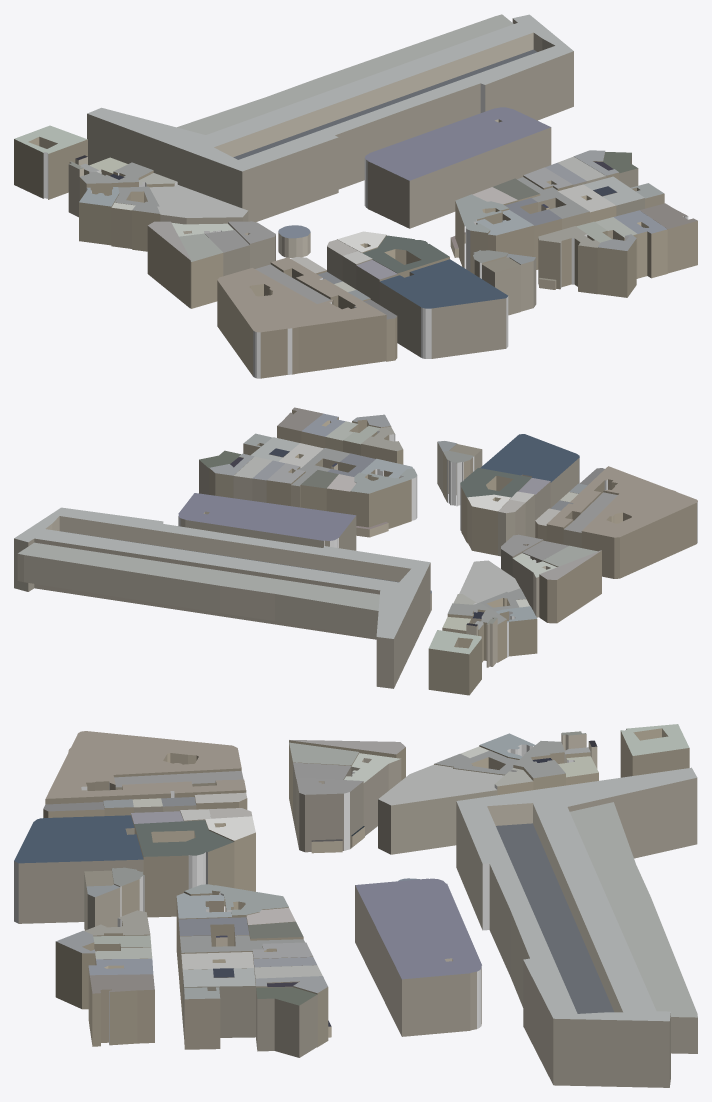
The picture shows the model from 3 angles, top to bottom: view 1: azimuth 30°, elevation 25°; view 2: azimuth 150°, elevation 25°; view 3: azimuth 270°, elevation 25°; orthographic projection. The views are drawn at different scales.
Parts seen in each view (by area): view 1: tuile; view 2: tuile; view 3: tuile.
Boxes of the visible parts, <box> form: tuile: <box>14,14,697,378</box>; tuile: <box>14,407,697,695</box>; tuile: <box>14,724,697,1087</box>.
Bounding box in the file's own units: 290 × 39.86 × 276.
